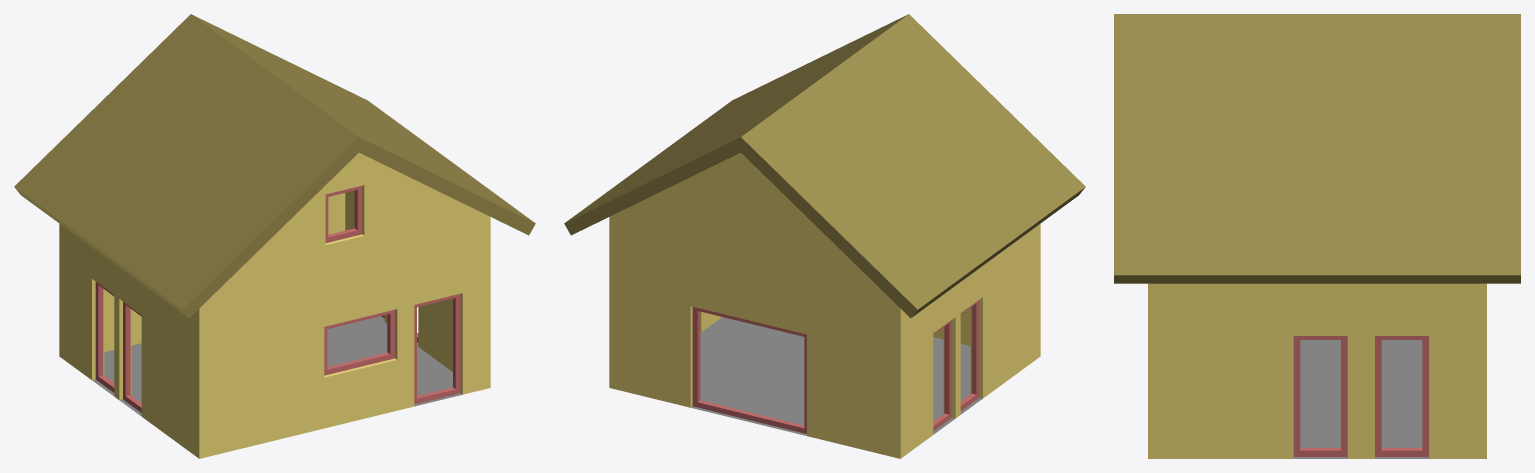
File: result.glb
3 renders of one model, left to right at view 1: azimuth 30°, elevation 25°; view 2: azimuth 150°, elevation 25°; view 3: azimuth 270°, elevation 25°, orthographic. The views are drawn at different scales.
Parts seen in each view (by area): view 1: 68fefaf5-2ac8-4778-a748-3900a53f9032__undefined, 50d2f4dc-65dd-4f3f-87e3-f21574353030__undefined (×2), c55e92b7-ee8e-48e9-82e8-cff8a6e89def__Plane_12, 5c1b95ec-025c-4542-a76d-e10a76775d97__Box, 76ad9ca3-f371-4ad0-aabf-5e39eac5f096__Box_3, 91640ef8-df40-40b6-bff1-f9b162749f65__Box_15, ebafa283-530b-4760-a183-6d5a395c4c5a__Box_6, 0c99d721-f402-478c-b9cc-154cb18f3809__Box_12; view 2: 68fefaf5-2ac8-4778-a748-3900a53f9032__undefined, 50d2f4dc-65dd-4f3f-87e3-f21574353030__undefined (×2), c55e92b7-ee8e-48e9-82e8-cff8a6e89def__Plane_12, 34becbf9-4244-48be-b5b6-0c531b42b1ce__Box_9, 0c99d721-f402-478c-b9cc-154cb18f3809__Box_12, 91640ef8-df40-40b6-bff1-f9b162749f65__Box_15; view 3: 50d2f4dc-65dd-4f3f-87e3-f21574353030__undefined, 68fefaf5-2ac8-4778-a748-3900a53f9032__undefined, c55e92b7-ee8e-48e9-82e8-cff8a6e89def__Plane_12, d6e5de69-56ad-42be-9271-8f05eeca3516__Box_24, fc702240-a7f7-439c-8b26-4369372e65ab__Box_27.
Boxes of the visible parts, x1,y1,x2,y2 form: 68fefaf5-2ac8-4778-a748-3900a53f9032__undefined: [59, 152, 490, 458]; 50d2f4dc-65dd-4f3f-87e3-f21574353030__undefined (×2): [14, 14, 535, 318]; c55e92b7-ee8e-48e9-82e8-cff8a6e89def__Plane_12: [92, 316, 462, 416]; 5c1b95ec-025c-4542-a76d-e10a76775d97__Box: [414, 293, 460, 404]; 76ad9ca3-f371-4ad0-aabf-5e39eac5f096__Box_3: [324, 309, 394, 375]; 91640ef8-df40-40b6-bff1-f9b162749f65__Box_15: [95, 282, 114, 392]; ebafa283-530b-4760-a183-6d5a395c4c5a__Box_6: [325, 185, 362, 242]; 0c99d721-f402-478c-b9cc-154cb18f3809__Box_12: [123, 301, 141, 412]; 68fefaf5-2ac8-4778-a748-3900a53f9032__undefined: [609, 152, 1040, 458]; 50d2f4dc-65dd-4f3f-87e3-f21574353030__undefined (×2): [564, 14, 1085, 318]; c55e92b7-ee8e-48e9-82e8-cff8a6e89def__Plane_12: [691, 317, 982, 435]; 34becbf9-4244-48be-b5b6-0c531b42b1ce__Box_9: [692, 307, 806, 433]; 0c99d721-f402-478c-b9cc-154cb18f3809__Box_12: [960, 300, 979, 410]; 91640ef8-df40-40b6-bff1-f9b162749f65__Box_15: [933, 320, 951, 430]; 50d2f4dc-65dd-4f3f-87e3-f21574353030__undefined: [1114, 14, 1520, 283]; 68fefaf5-2ac8-4778-a748-3900a53f9032__undefined: [1148, 283, 1486, 458]; c55e92b7-ee8e-48e9-82e8-cff8a6e89def__Plane_12: [1293, 340, 1428, 458]; d6e5de69-56ad-42be-9271-8f05eeca3516__Box_24: [1293, 336, 1347, 456]; fc702240-a7f7-439c-8b26-4369372e65ab__Box_27: [1375, 336, 1428, 456].
Size of the model in its own units: 729 by 584 by 600.
